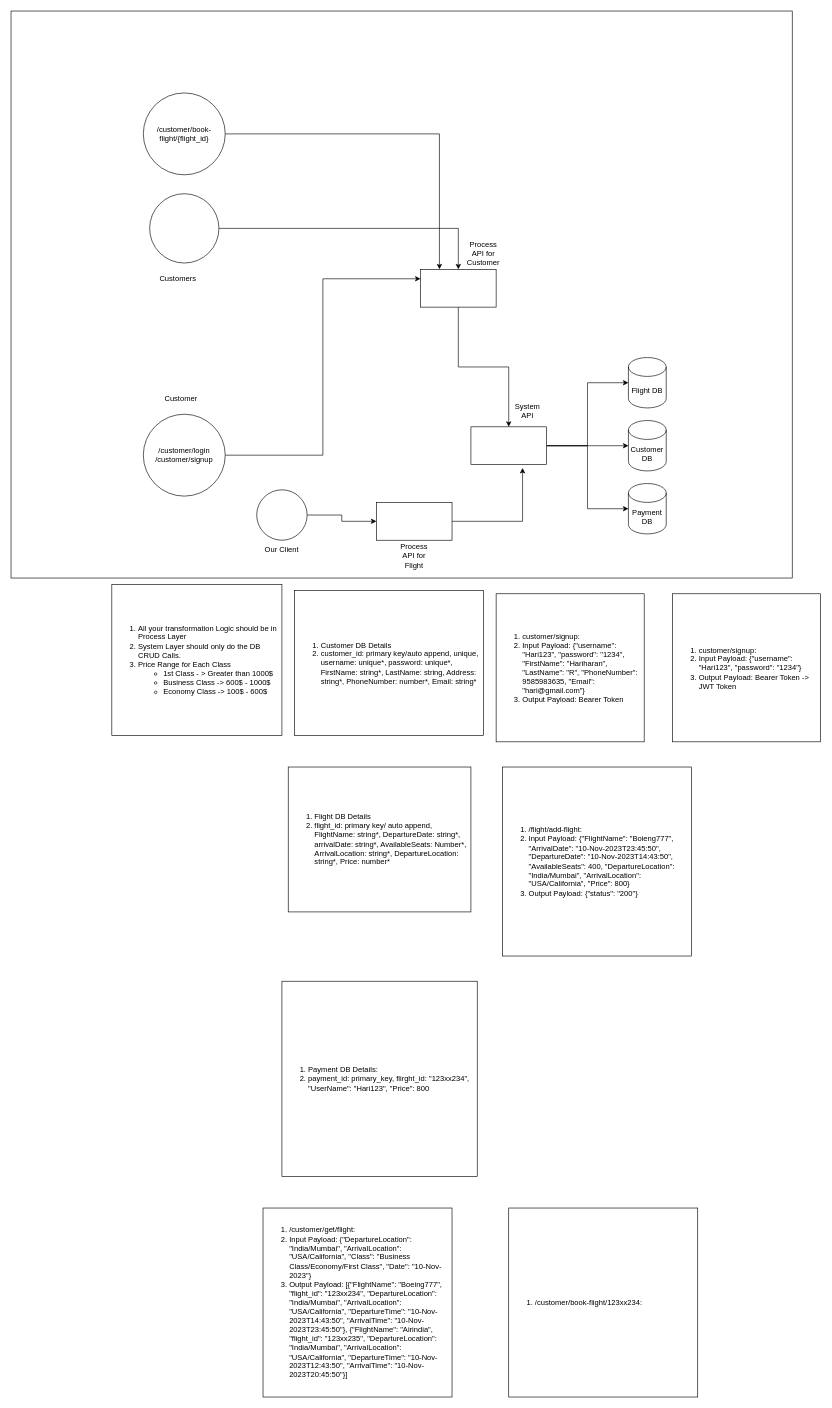
This 832x1408 diagram has some shape labels left out. Here are the shapes that lost their labels. From the top down, the centre of each, then its label:
point 184,228: /customer/get/flight
point 281,514: /flight/add-flight
